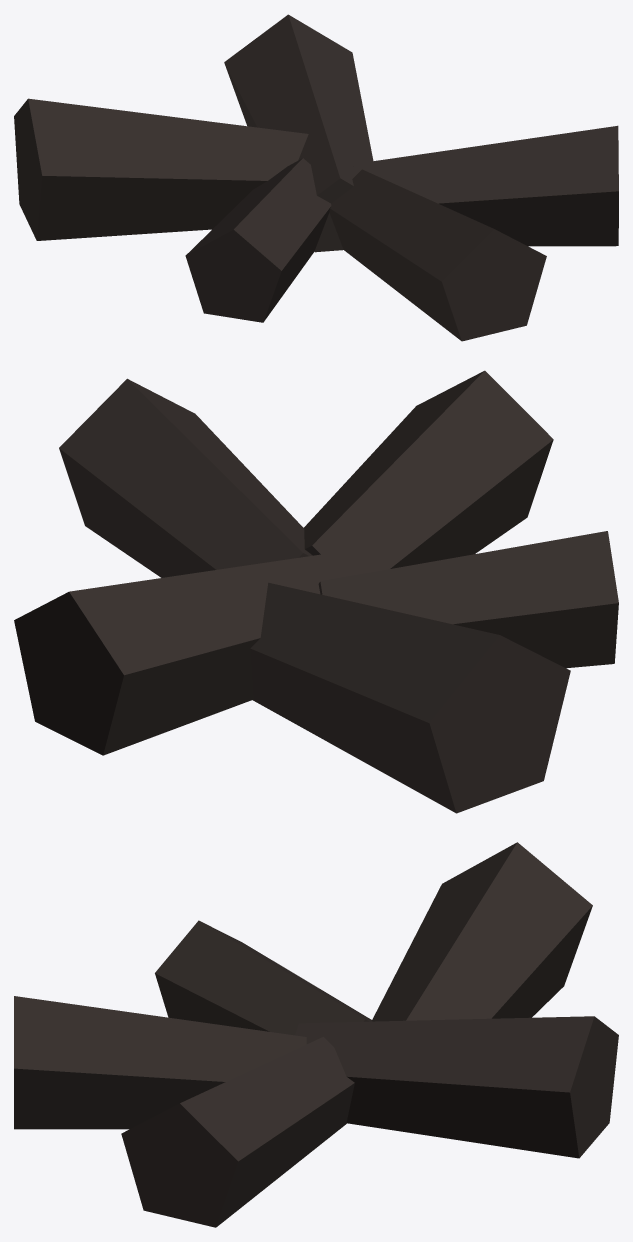
Rendered from fireplace.fbx.
The picture shows the model from 3 angles, top to bottom: view 1: azimuth 30°, elevation 25°; view 2: azimuth 150°, elevation 25°; view 3: azimuth 270°, elevation 25°; orthographic projection. The views are drawn at different scales.
Visible parts, largest first — view 1: Cylinder.003; view 2: Cylinder.003; view 3: Cylinder.003.
Boxes of the visible parts, x1,y1,x2,y2 form: Cylinder.003: (14,14,618,341); Cylinder.003: (14,370,618,813); Cylinder.003: (14,842,618,1227).
Size of the model in its own units: 1.23 by 0.3196 by 1.2.
